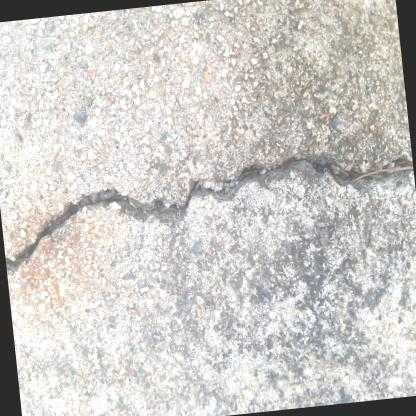crack: (4, 149, 413, 275)
